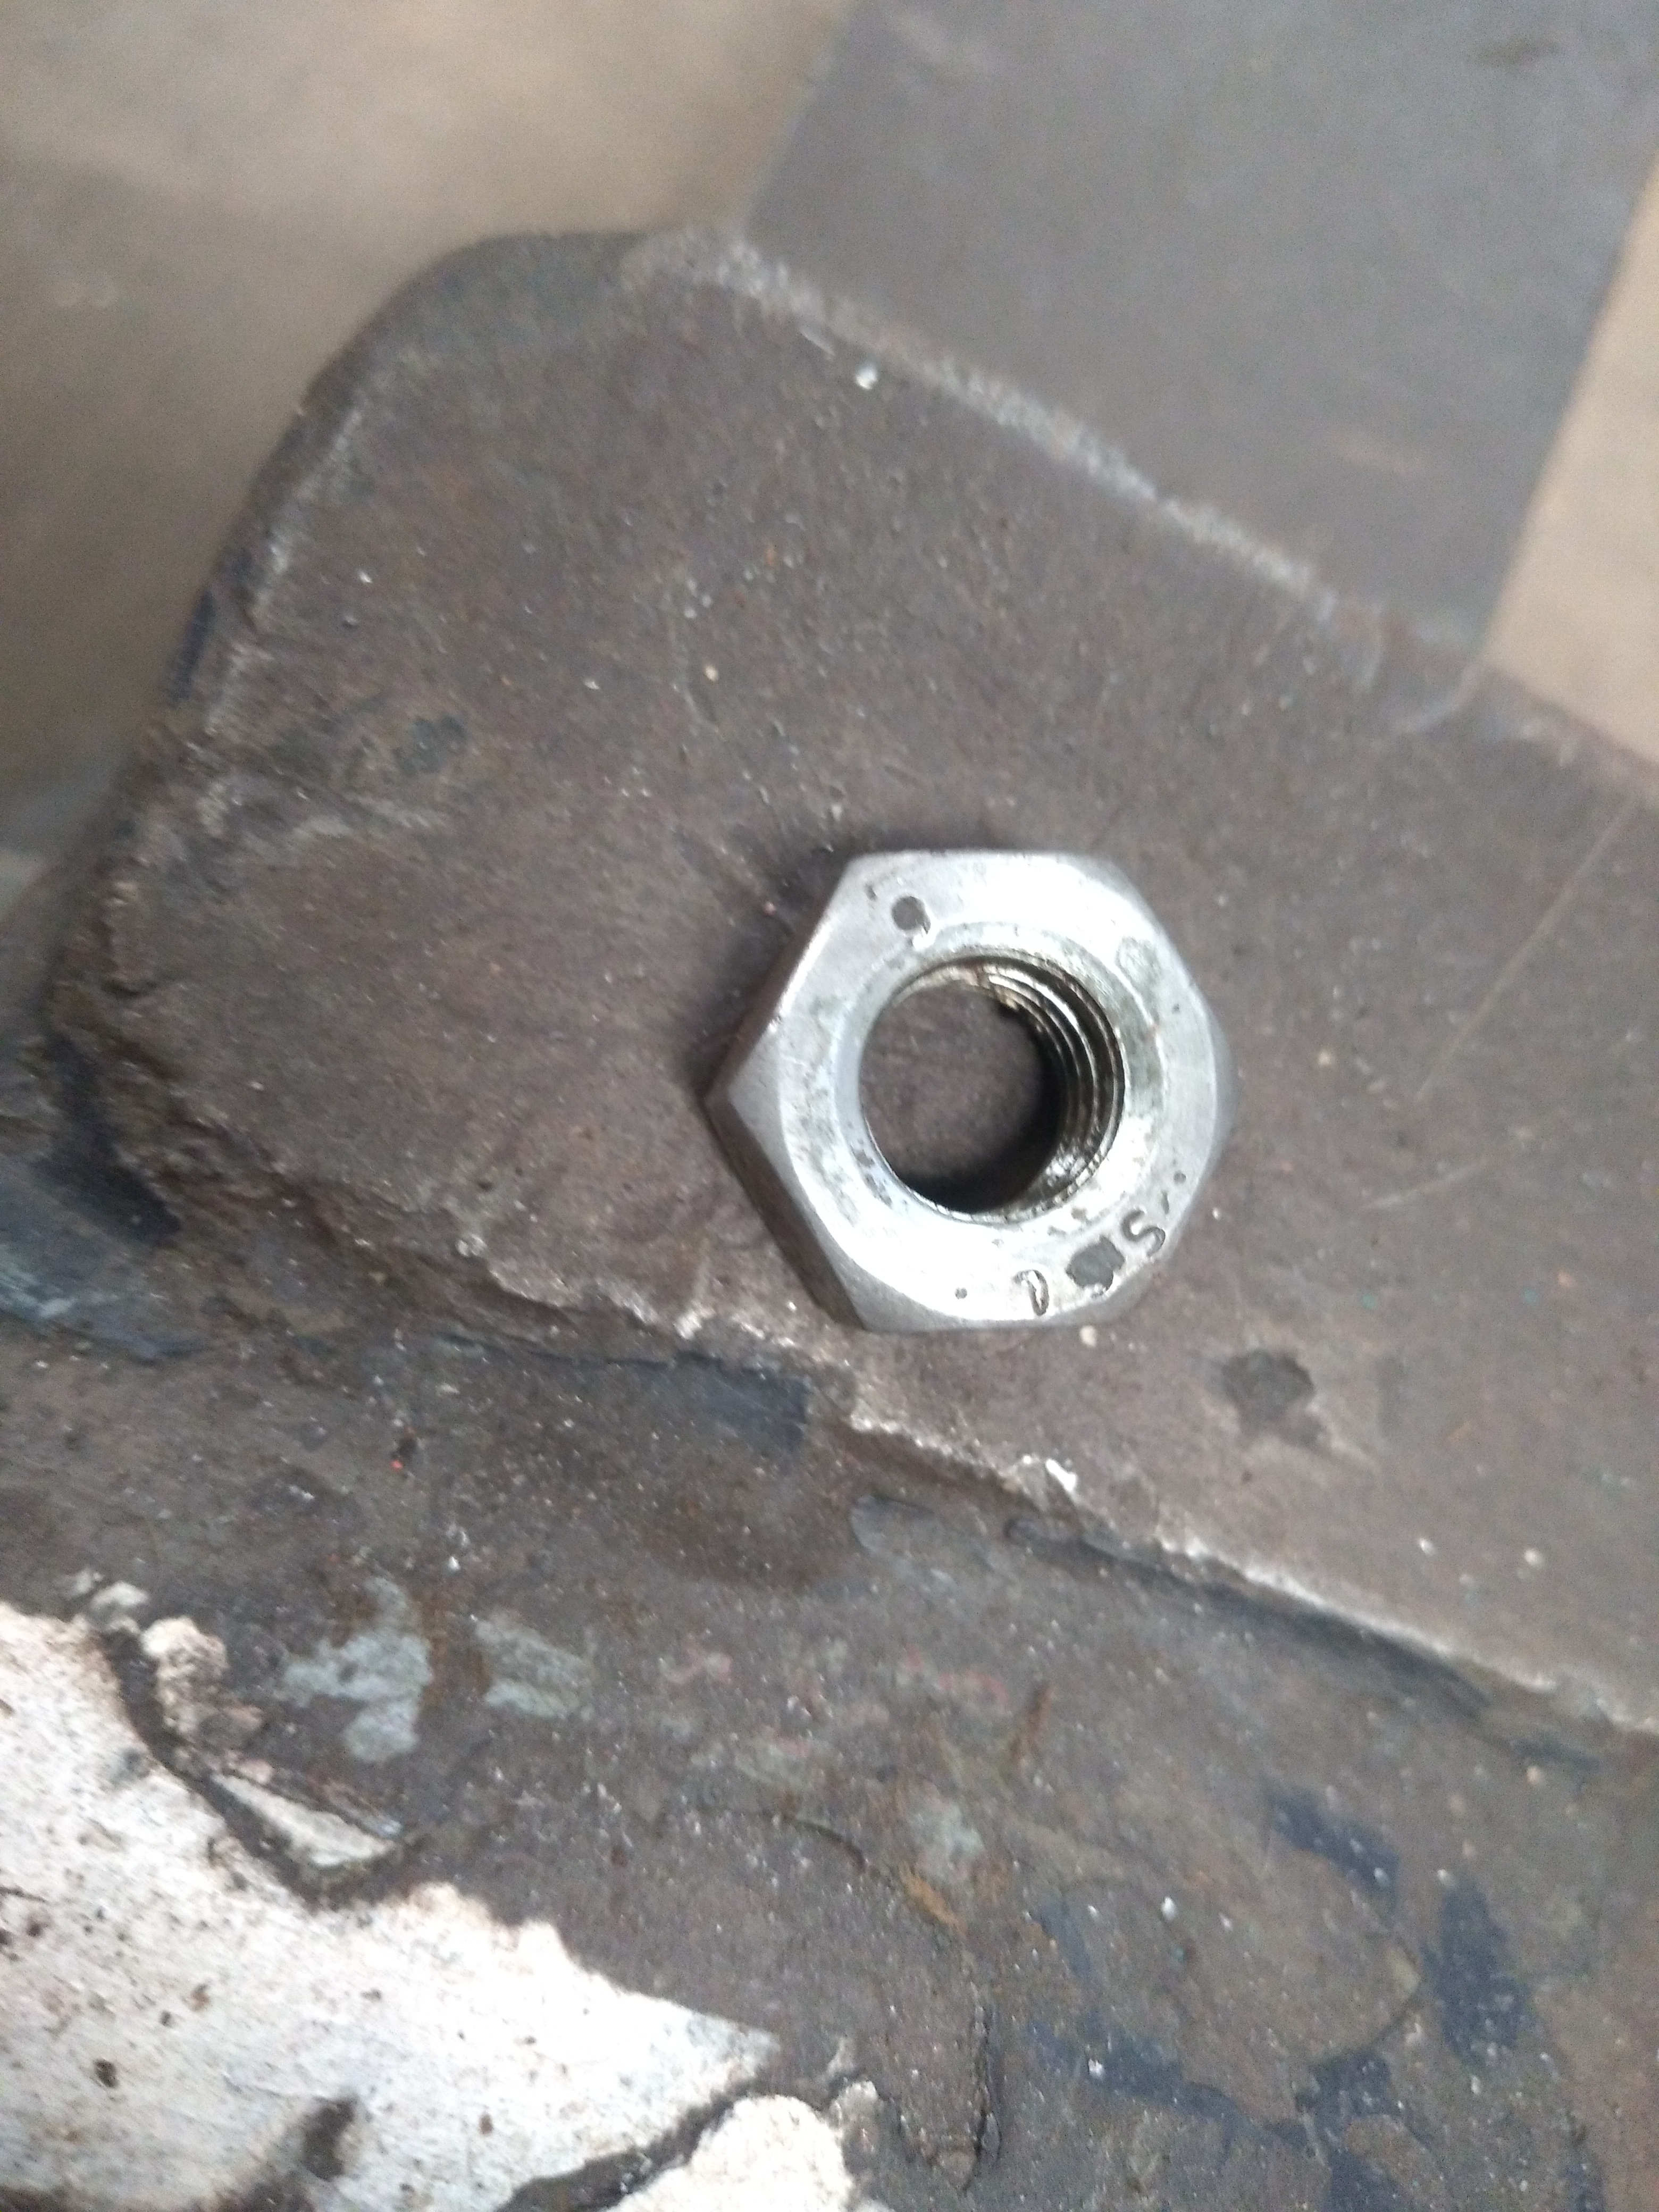Thread: (807, 902, 1183, 1244)
